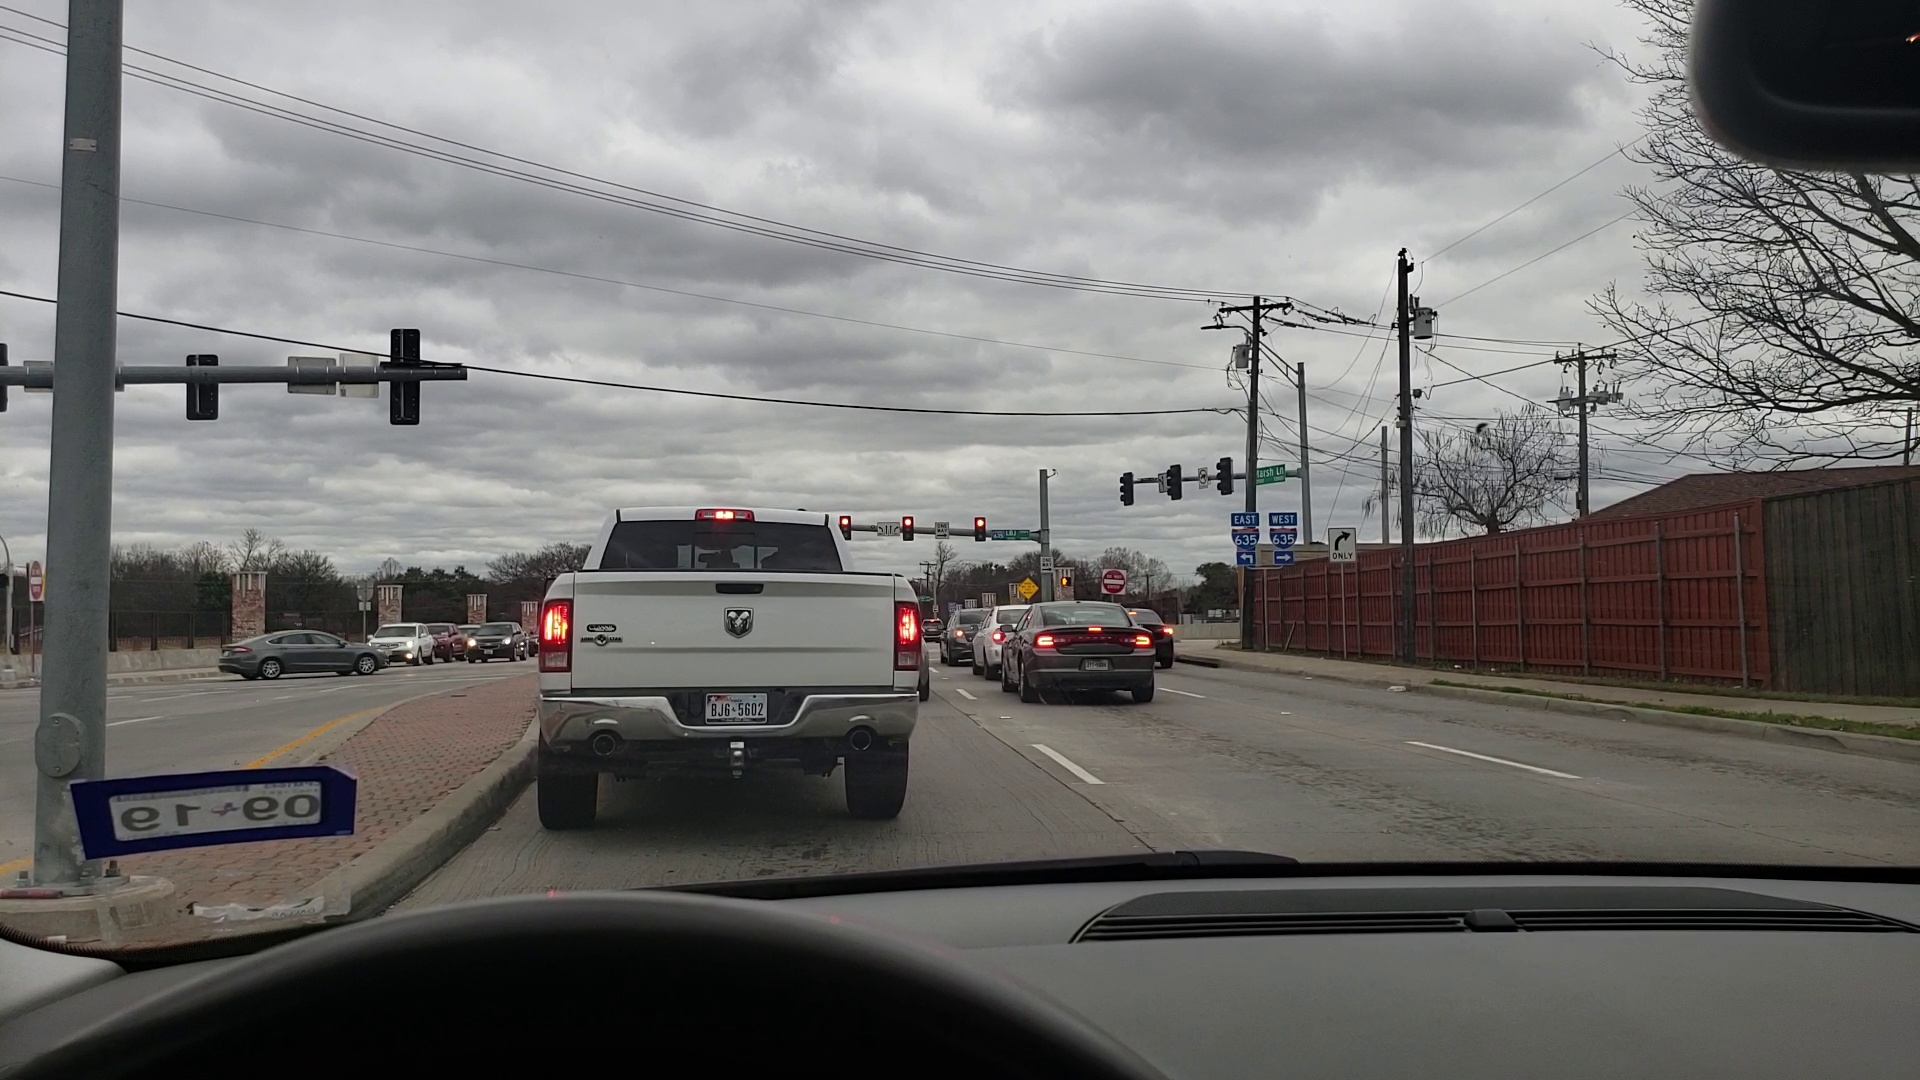car: (996, 597, 1159, 713), (218, 632, 382, 680), (975, 604, 1035, 684), (1124, 603, 1175, 673), (375, 622, 429, 671), (940, 604, 975, 667), (471, 620, 527, 658), (425, 622, 463, 662)
traffic light: (1166, 459, 1182, 502), (1217, 462, 1233, 498), (1116, 469, 1127, 505), (971, 520, 988, 543), (899, 516, 913, 546), (836, 516, 851, 542)
truck: (531, 501, 934, 843)
